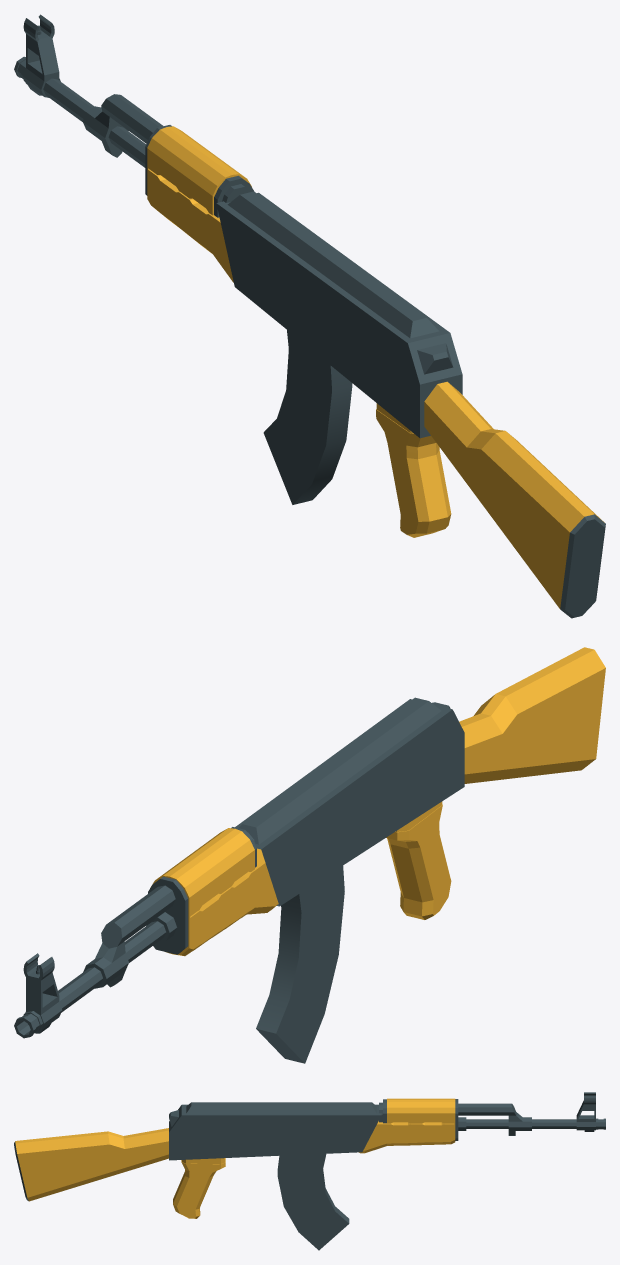
3 views of the same model, one above another, from view 1: azimuth 30°, elevation 25°; view 2: azimuth 150°, elevation 25°; view 3: azimuth 270°, elevation 25° (orthographic). The views are drawn at different scales.
Parts seen in each view (by area): view 1: ak47; view 2: ak47; view 3: ak47.
Part boxes in pixels (left/top/right/bottom): ak47: left=14, top=14, right=605, bottom=618; ak47: left=14, top=647, right=605, bottom=1063; ak47: left=14, top=1092, right=605, bottom=1250.
Bounding box in the file's own units: 0.8384 × 5.52 × 19.36.
